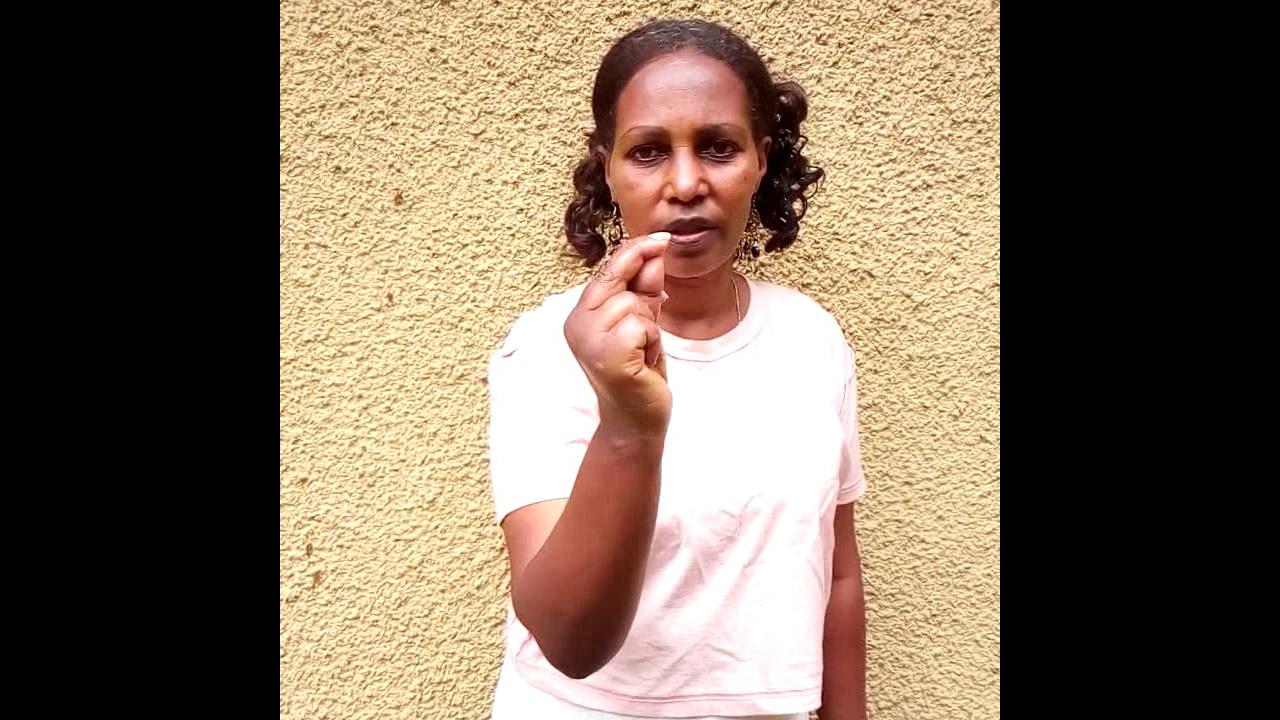CHE: (559, 231, 680, 485)
